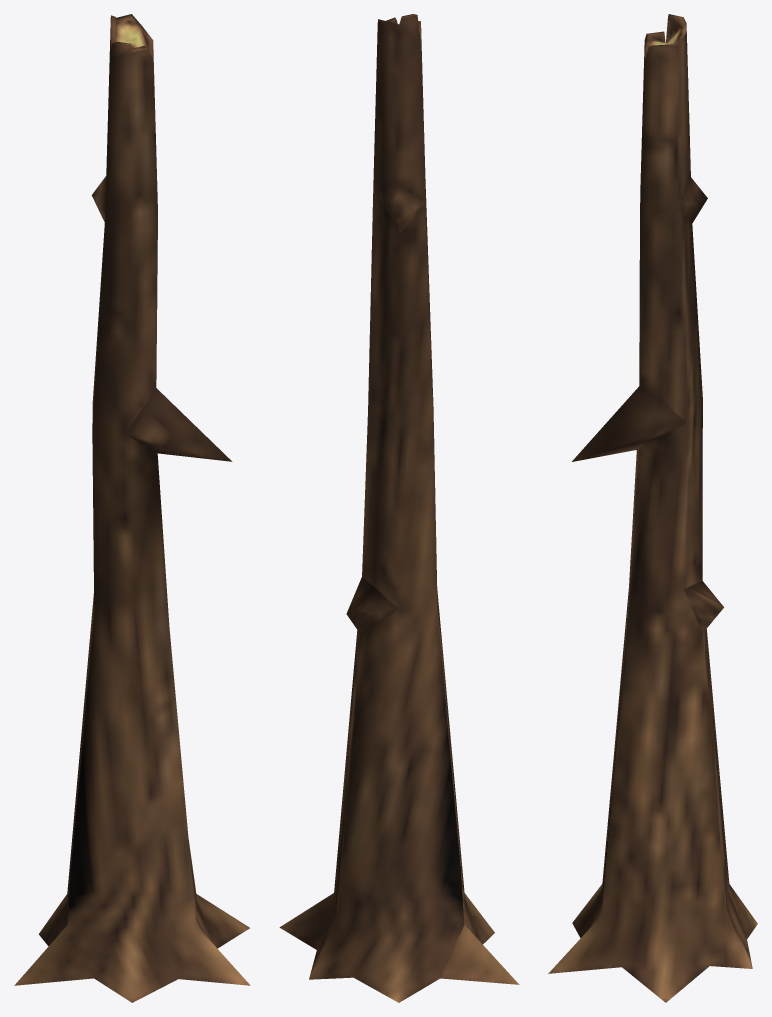
The model's file is e_tree_7.FBX.
The picture shows the model from 3 angles, left to right: view 1: azimuth 30°, elevation 25°; view 2: azimuth 150°, elevation 25°; view 3: azimuth 270°, elevation 25°; orthographic projection. The views are drawn at different scales.
Visible parts, largest first — view 1: polySurface74; view 2: polySurface74; view 3: polySurface74.
Part boxes in pixels (box(x1,y1,x2,y2)): polySurface74: box(14, 14, 250, 1002); polySurface74: box(279, 14, 519, 1002); polySurface74: box(548, 14, 757, 1002).
Size of the model in its own units: 32.37 by 25.22 by 123.
